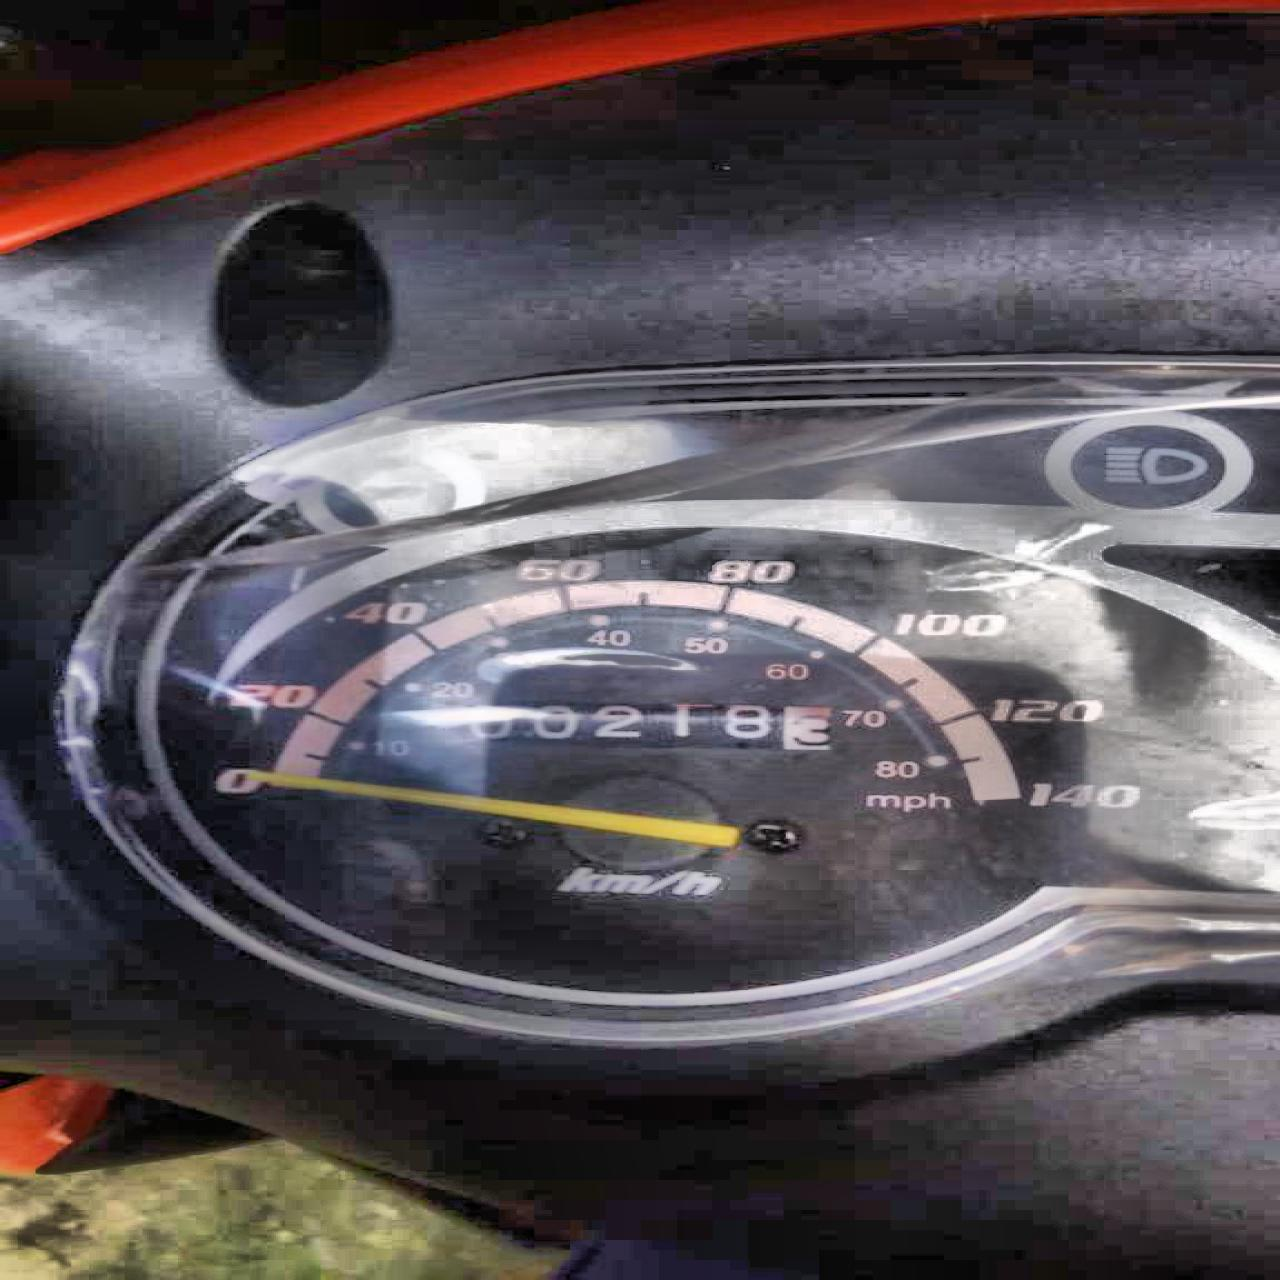0: (463, 704, 515, 740), (530, 703, 577, 738)
2: (587, 702, 644, 737), (668, 703, 694, 737)
3: (787, 713, 835, 747)
8: (722, 703, 772, 738)
odometer: (456, 700, 837, 750)
